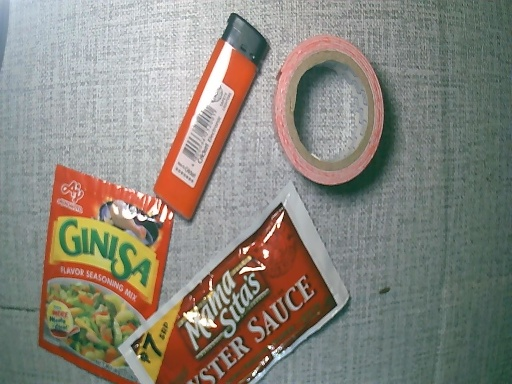plastic: (121, 185, 378, 384), (37, 164, 178, 384)
trash: (152, 15, 266, 217), (273, 38, 390, 186)
